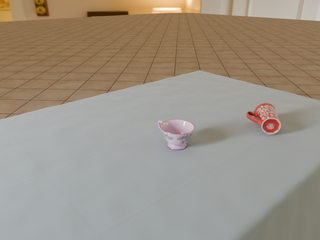cup: (158, 119, 194, 150), (246, 103, 281, 134)
